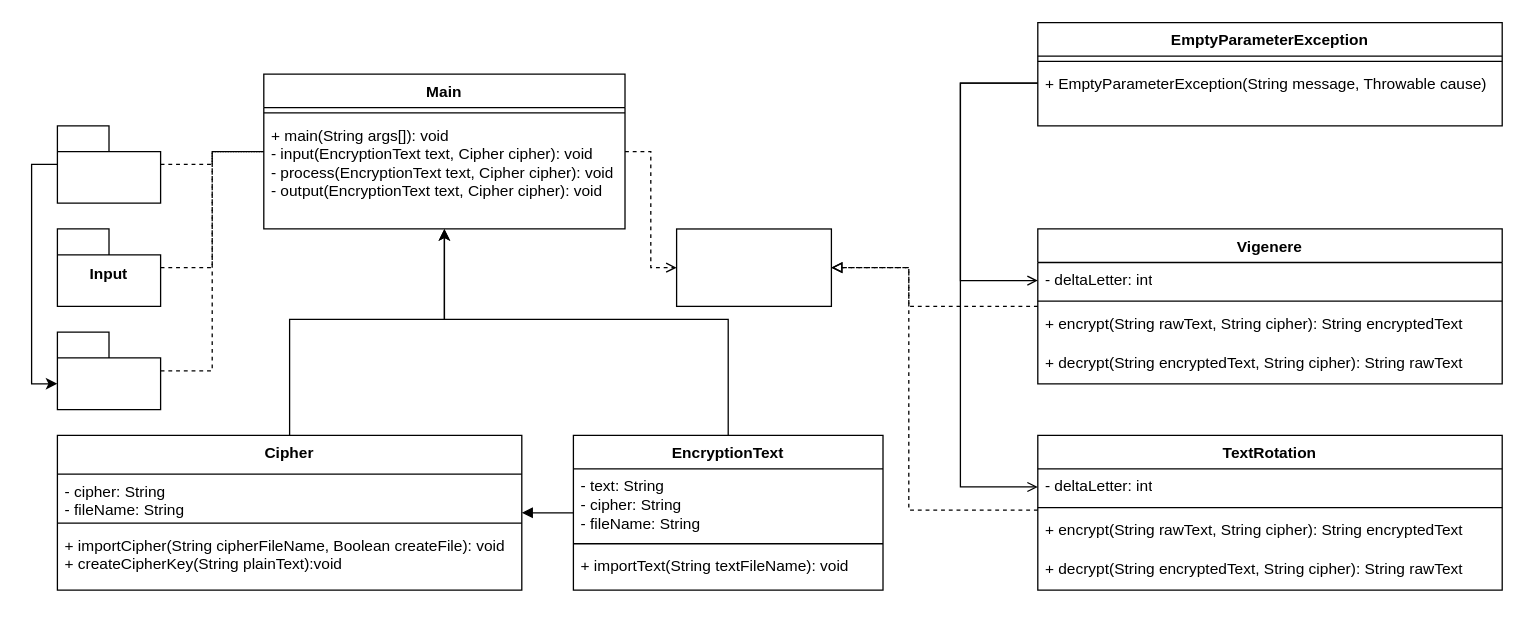
This 1525x617 diagram has some shape labels left out. Here are the shapes that lost their labels. From the top down, the box of each, then its label:
(56, 124, 161, 203): Output
(675, 228, 831, 306): «interface» Encryption
(56, 331, 161, 410): CustomFile Processor
